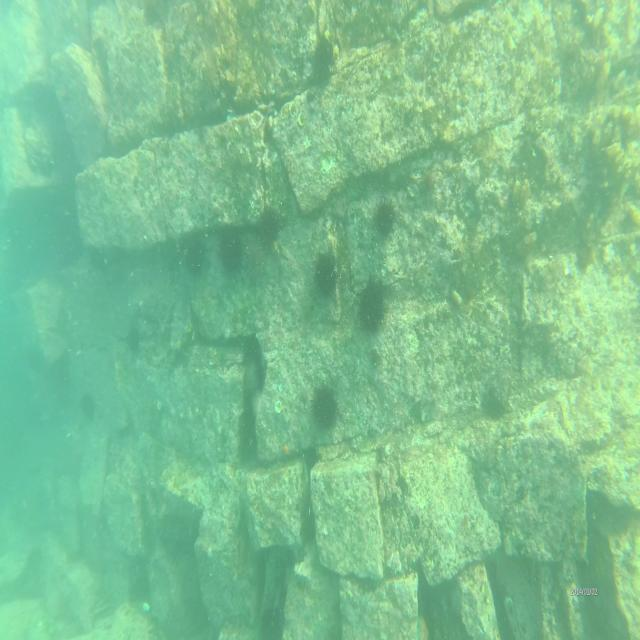echinus: (356, 274, 388, 333), (255, 202, 292, 252), (311, 250, 341, 297), (370, 196, 399, 241), (312, 386, 340, 431), (219, 221, 243, 269), (184, 234, 209, 276), (312, 36, 334, 81), (246, 238, 267, 283), (80, 396, 96, 422)
